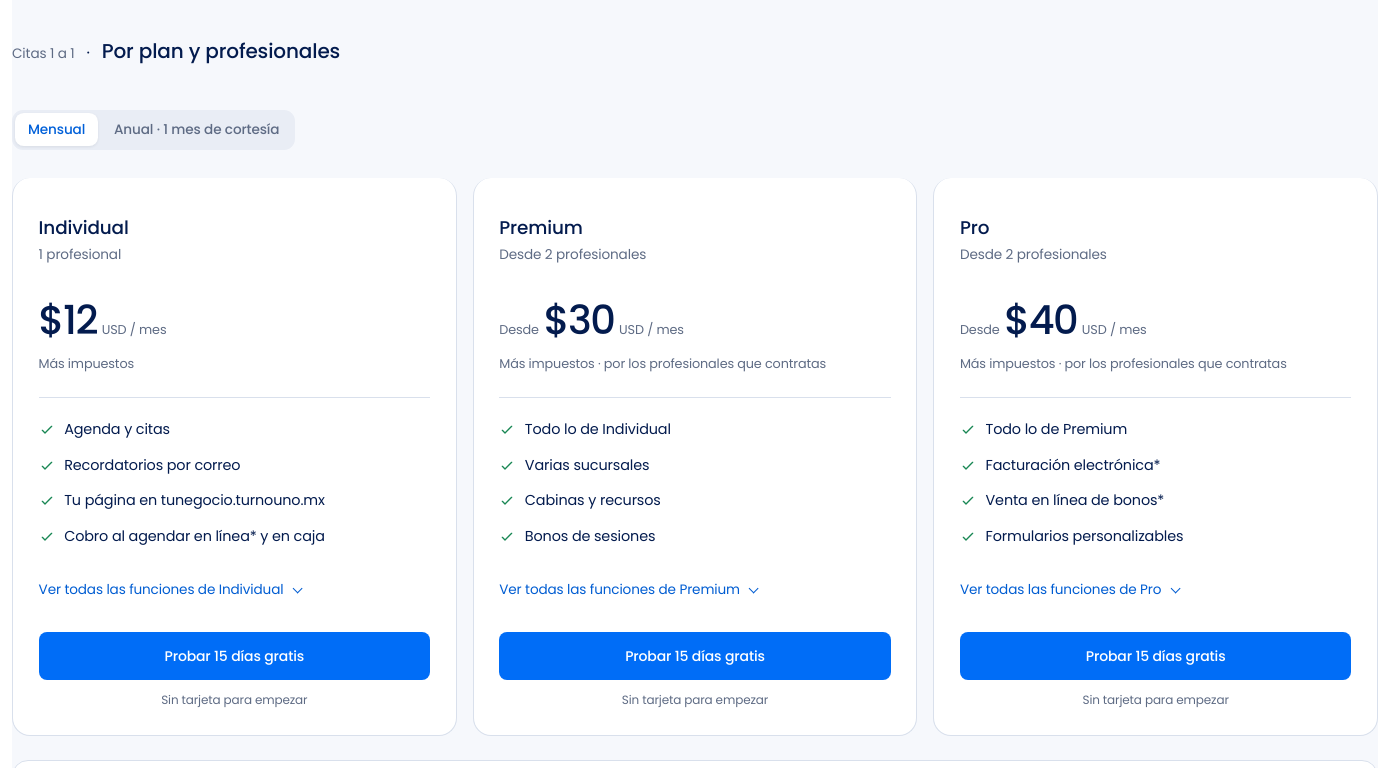
Test: precios públicos (ADR 0107) › muestra lo que publica el superadmin: precios, anual, cotización y qué incluye cada nivel
The image size is (1378, 768).
Click the button "Anual · 1 mes de cortesía": [197, 130] box left=101, top=113, right=292, bottom=146
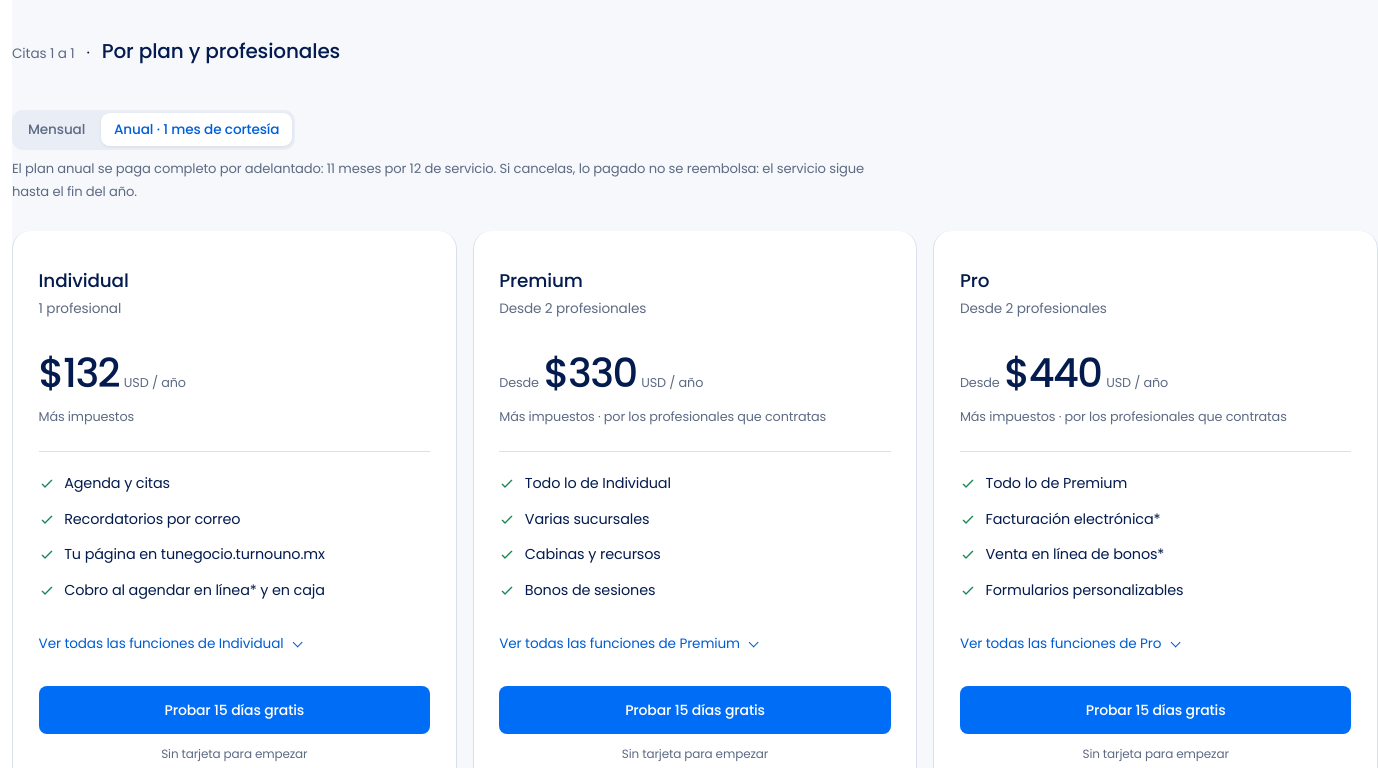
Expected: the button "Probar 15 días gratis" below "Ver todas las funciones de Individual" is shown, left=164, top=700, right=304, bottom=720
Expected: the text "$132" is shown, left=39, top=344, right=119, bottom=404
